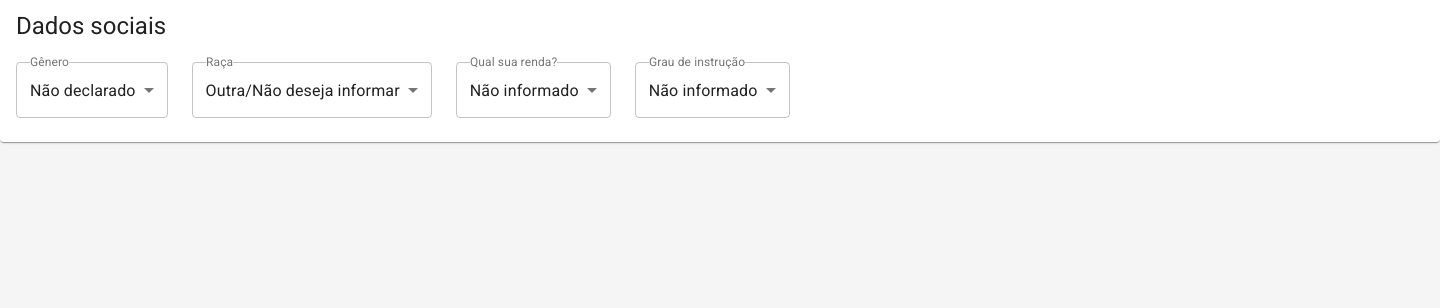
Test case: SocialInfoForm › should not show additional option when selecting less than a year of schooling
Step 1. Click the button "Não informado" next to "Grau de instrução" → (703, 90), box left=649, top=80, right=758, bottom=100
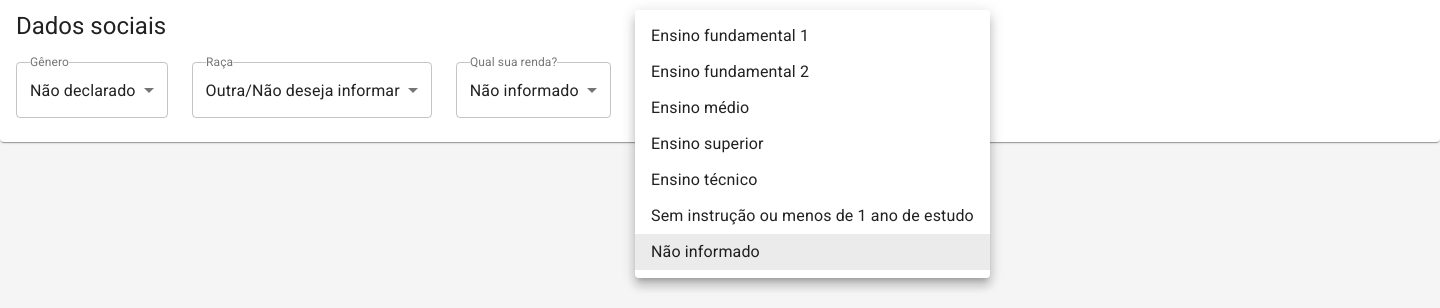
Step 2. Click the option "Sem instrução ou menos de 1 ano de estudo" → (812, 216), box left=651, top=206, right=974, bottom=225
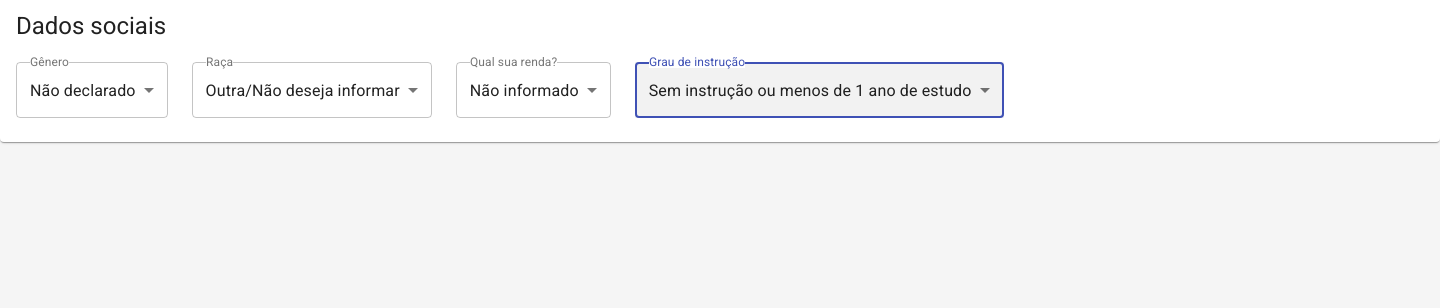
Expected: the button "Sem instrução ou menos de 1 ano de estudo" is shown, left=635, top=62, right=1004, bottom=118
